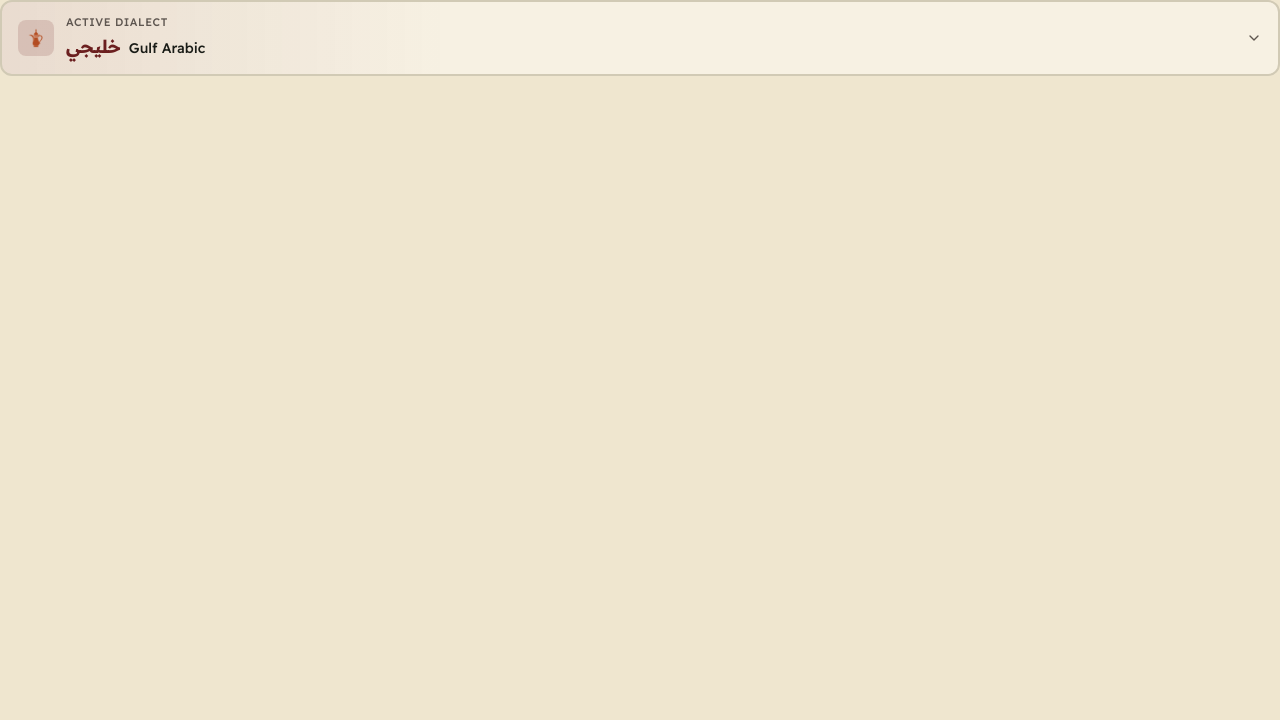
it: closing it without choosing › closes on the cross
The image size is (1280, 720).
Click the button with aria-label "active dialect:": (36, 38) [0,0,1279,76]
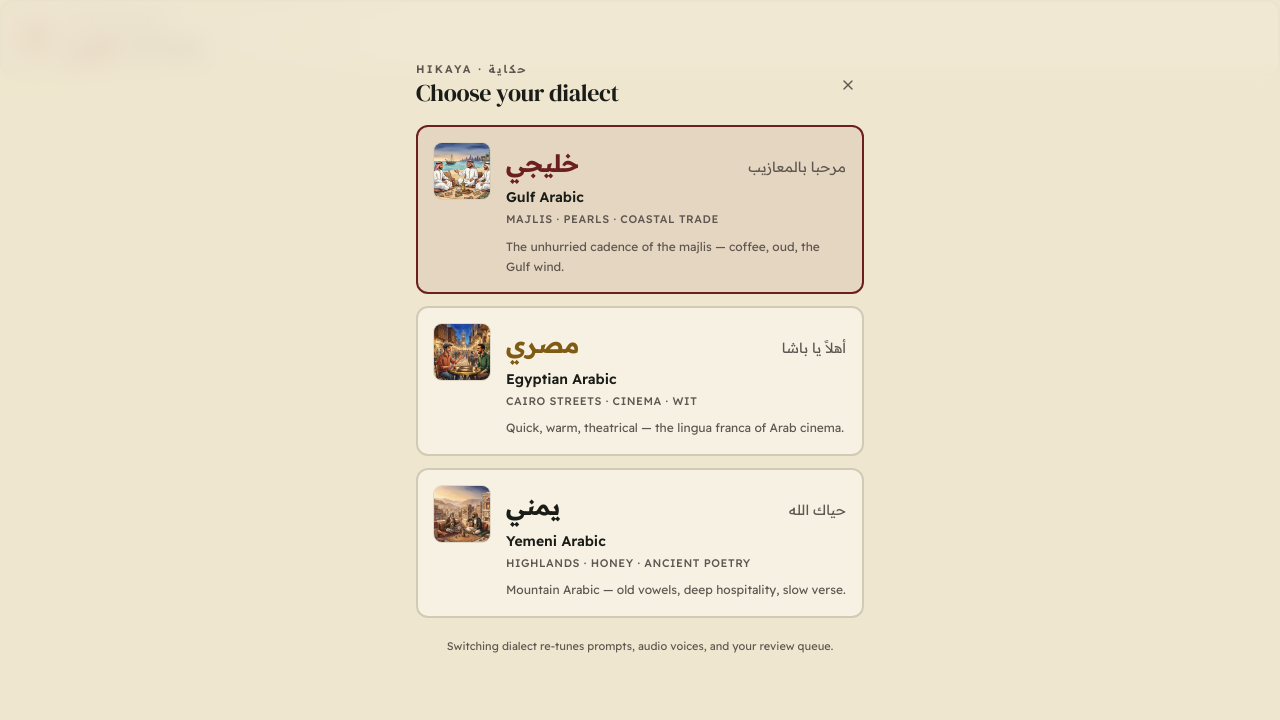
Click the button named "Close": (848, 85) [832,69,864,101]
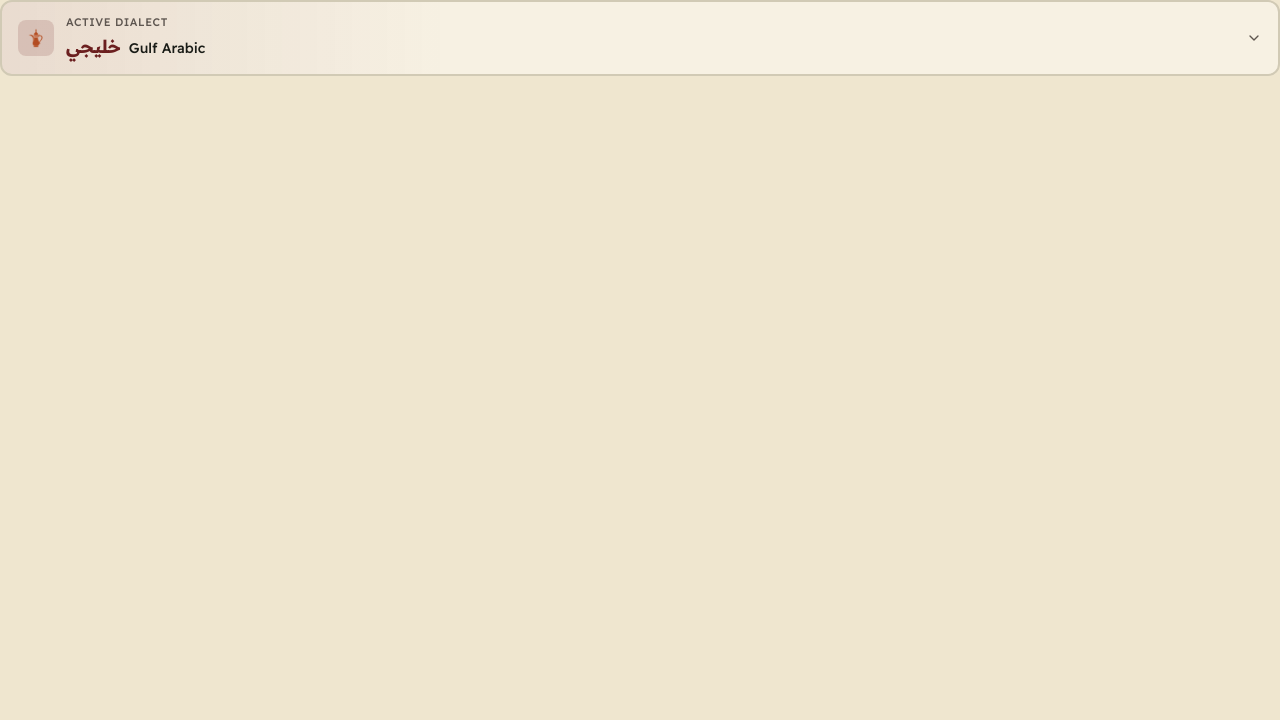
Check: the dialog is gone
